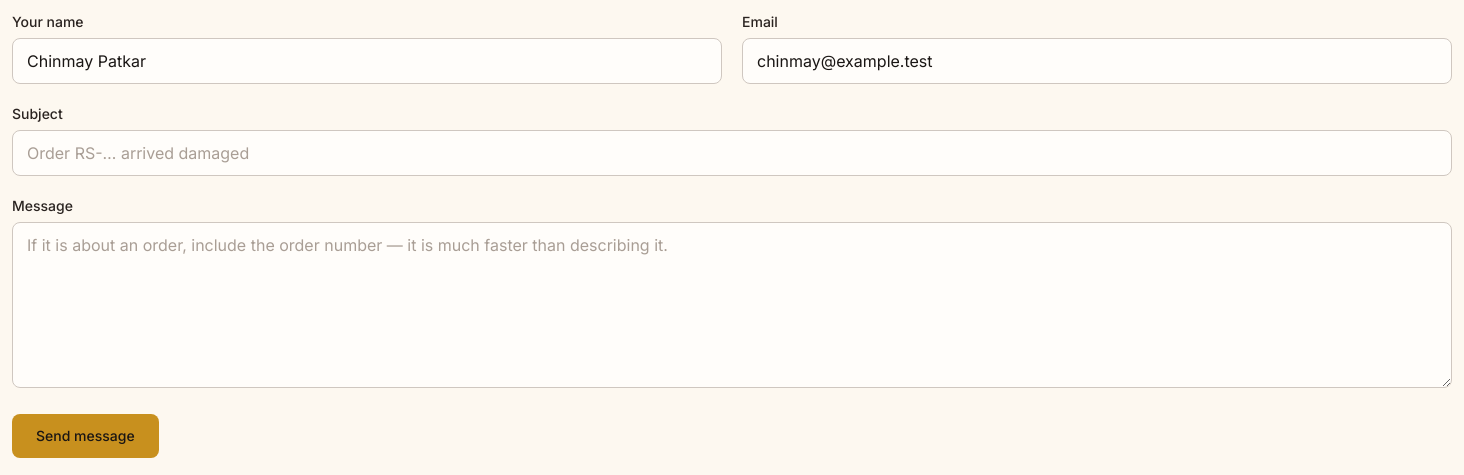
Test case: signed in › points the customer at the thread they can follow
Type "s" into the field labelled "Subject" at (732, 153), box [12,130,1452,176]
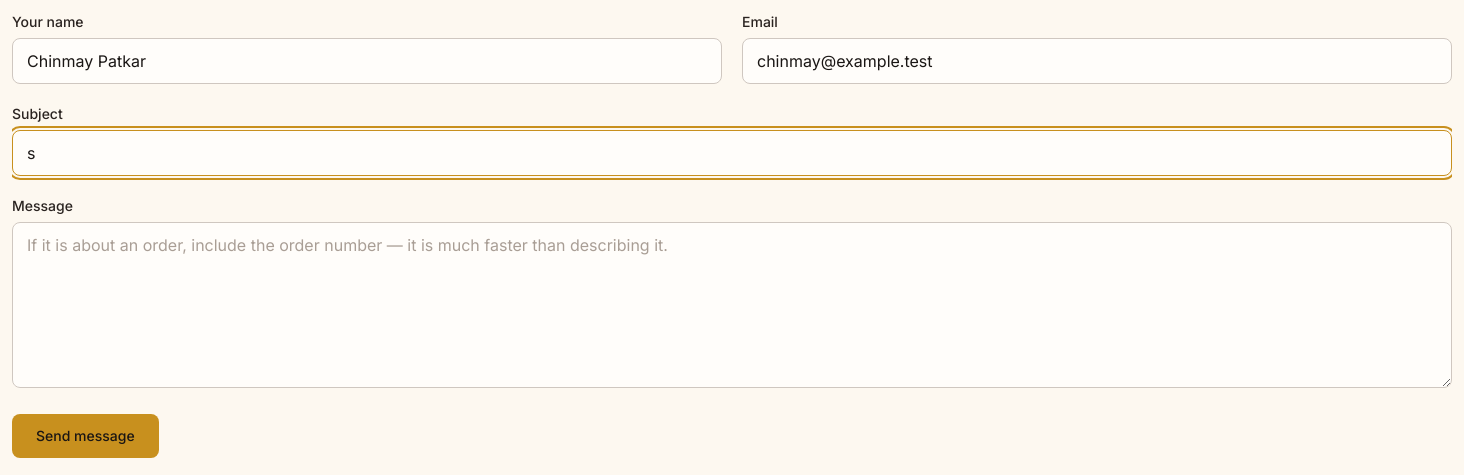
Type "m" into the text box labelled "Message" at (732, 305), box [12,222,1452,388]
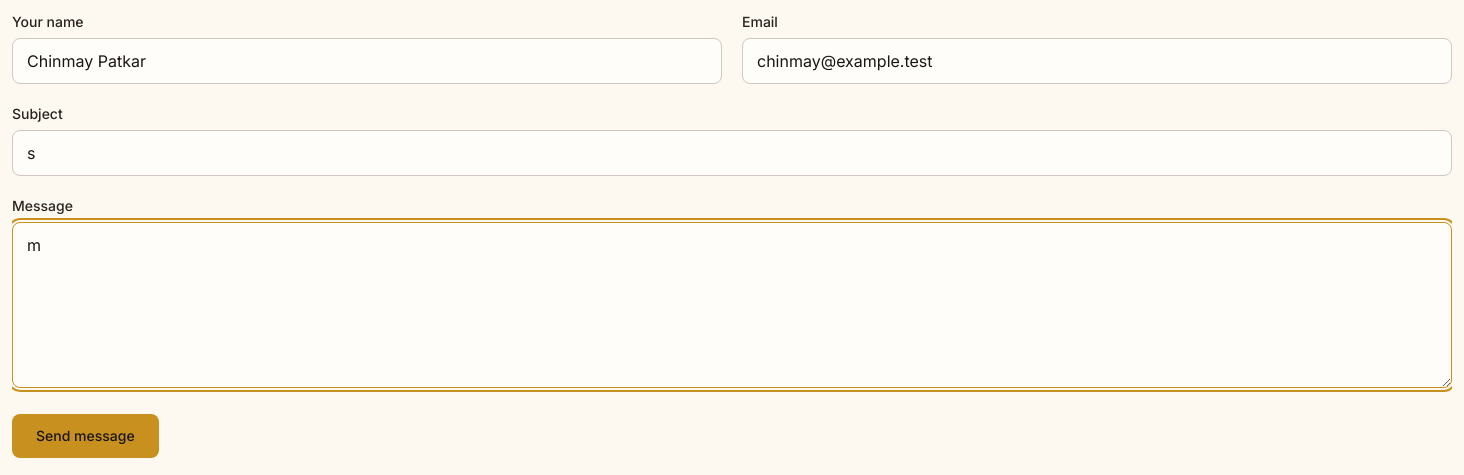
Click the button "Send message" at (85, 436), box [12,414,159,458]
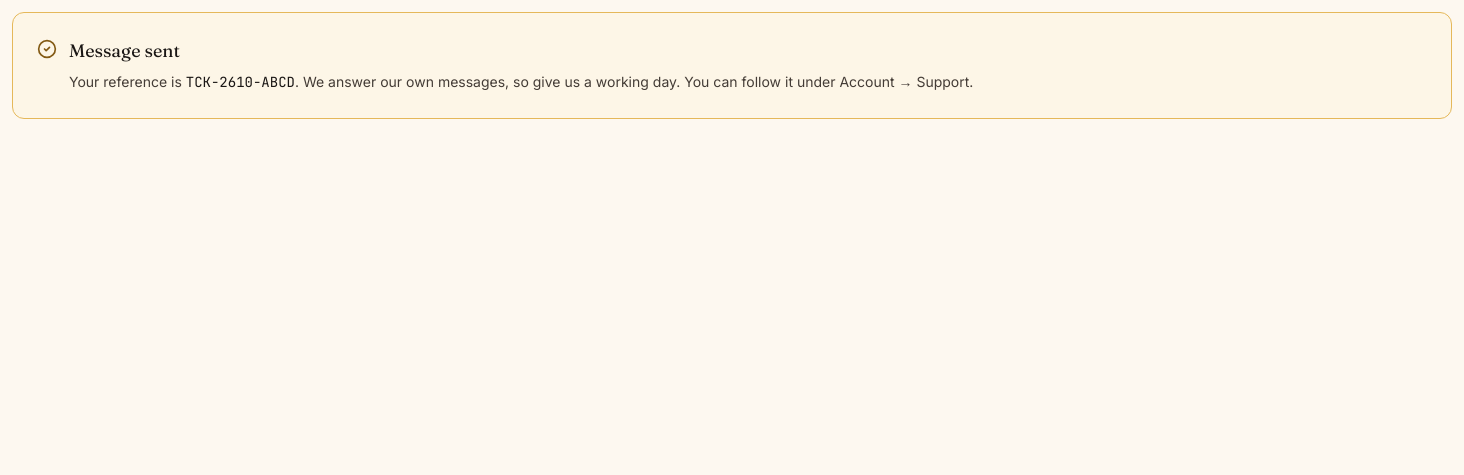
Check: the text "Account" is shown, box [680,73,973,90]
